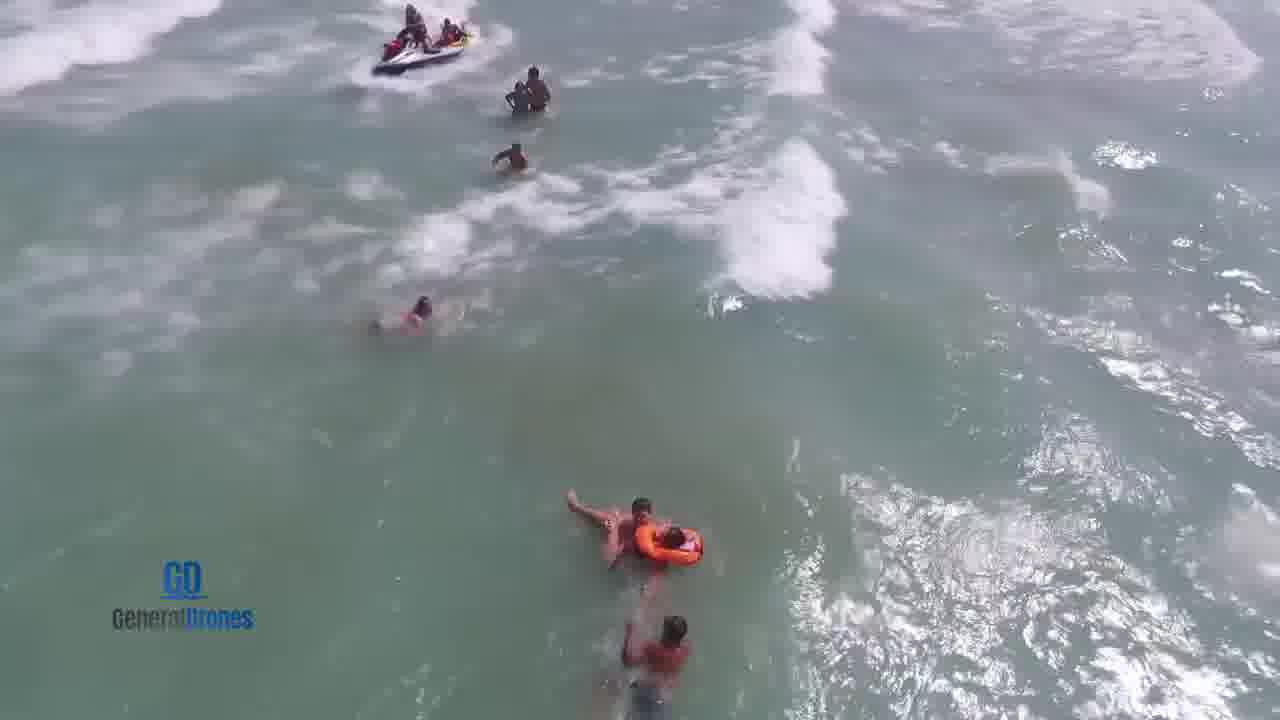swimmer: (553, 481, 704, 592), (609, 605, 697, 720), (382, 287, 455, 339), (520, 55, 568, 119), (478, 130, 536, 178), (612, 484, 671, 530), (497, 73, 539, 124)
